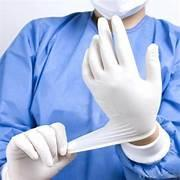Glove: (68, 16, 161, 151), (3, 123, 73, 179)
Mask: (91, 0, 146, 18)
